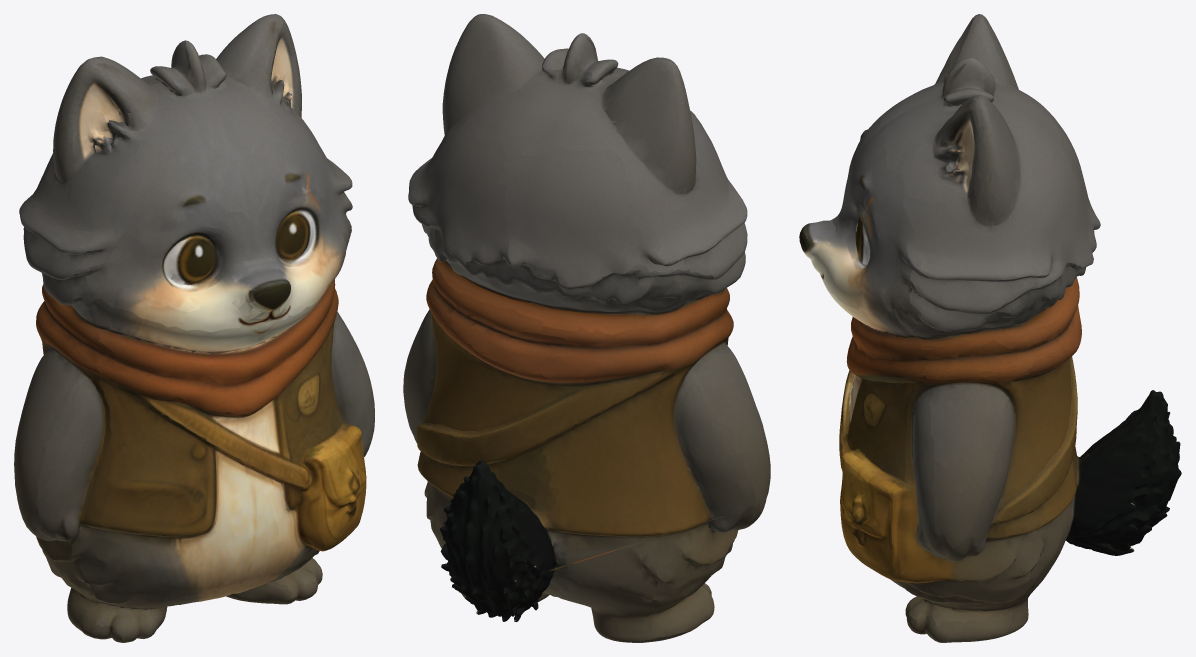
File: wolf_1.glb
The picture shows the model from 3 angles, left to right: view 1: azimuth 30°, elevation 25°; view 2: azimuth 150°, elevation 25°; view 3: azimuth 270°, elevation 25°; orthographic projection. The views are drawn at different scales.
Visible parts, largest first — view 1: tmpglo4e8wx.ply; view 2: tmpglo4e8wx.ply; view 3: tmpglo4e8wx.ply.
Boxes of the visible parts, box(x1,y1,x2,y2) form: tmpglo4e8wx.ply: box(14, 14, 374, 642); tmpglo4e8wx.ply: box(403, 14, 770, 642); tmpglo4e8wx.ply: box(799, 14, 1181, 642).
Bounding box in the file's own units: 1.28 × 1.97 × 1.28.
1 material, 1 textured.
